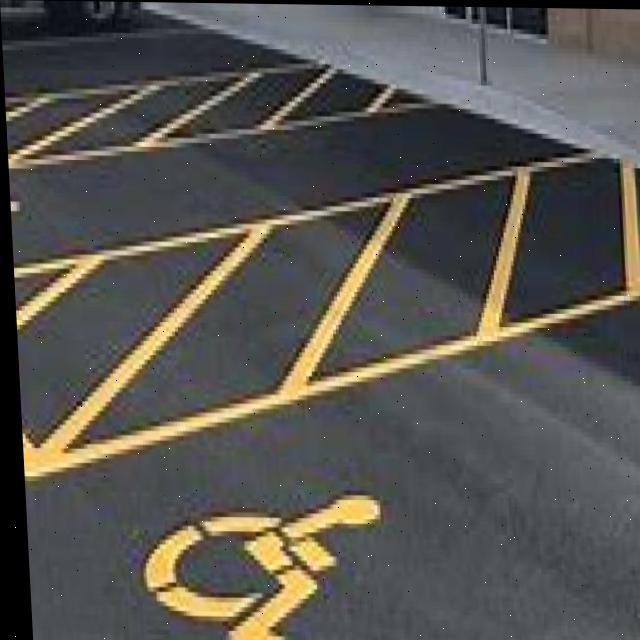symbol_of_access: (133, 486, 385, 640)
